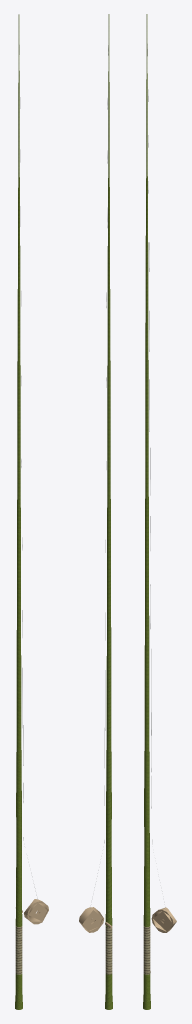
File: prut_bambus.glb
3 renders of one model, left to right at view 1: azimuth 30°, elevation 25°; view 2: azimuth 210°, elevation 25°; view 3: azimuth 330°, elevation 25°, orthographic.
Parts seen in each view (by area): view 1: prut_bambus; view 2: prut_bambus; view 3: prut_bambus.
Boxes of the visible parts, x1,y1,x2,y2 form: prut_bambus: (15,14,48,1009); prut_bambus: (79,14,112,1009); prut_bambus: (143,14,176,1009).
Size of the model in its own units: 0.1506 by 4.49 by 0.1031.
5 materials, 2 textured.
